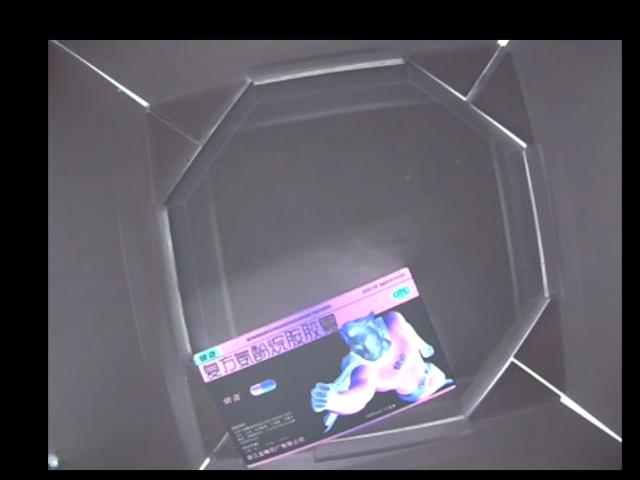Medicine: (188, 265, 457, 467)
